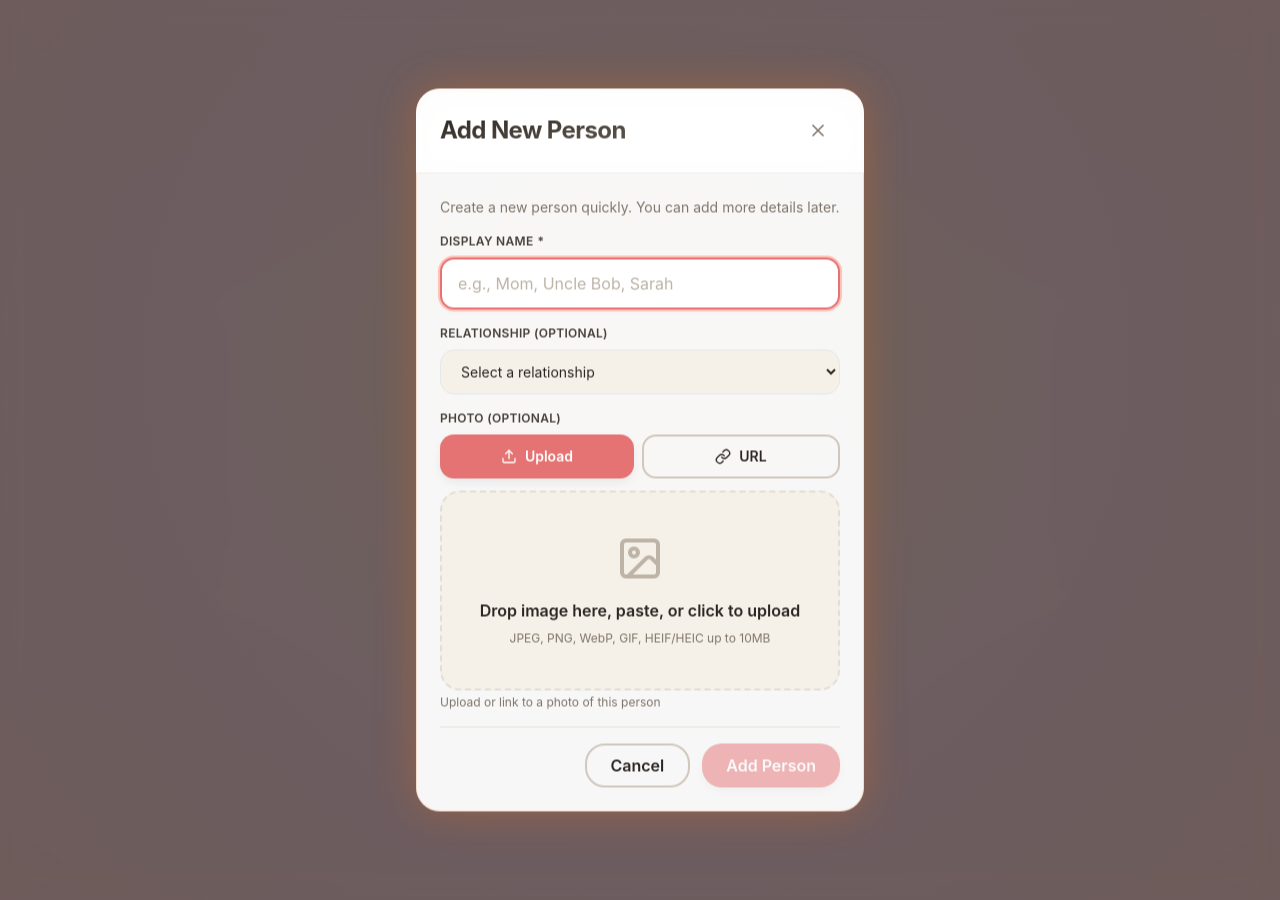
it: PersonQuickCreateModal › enables submit button when display name is provided
Type "Alice" into the field labelled "Display Name*" at {"x": 640, "y": 284}, box [440,258,840,310]
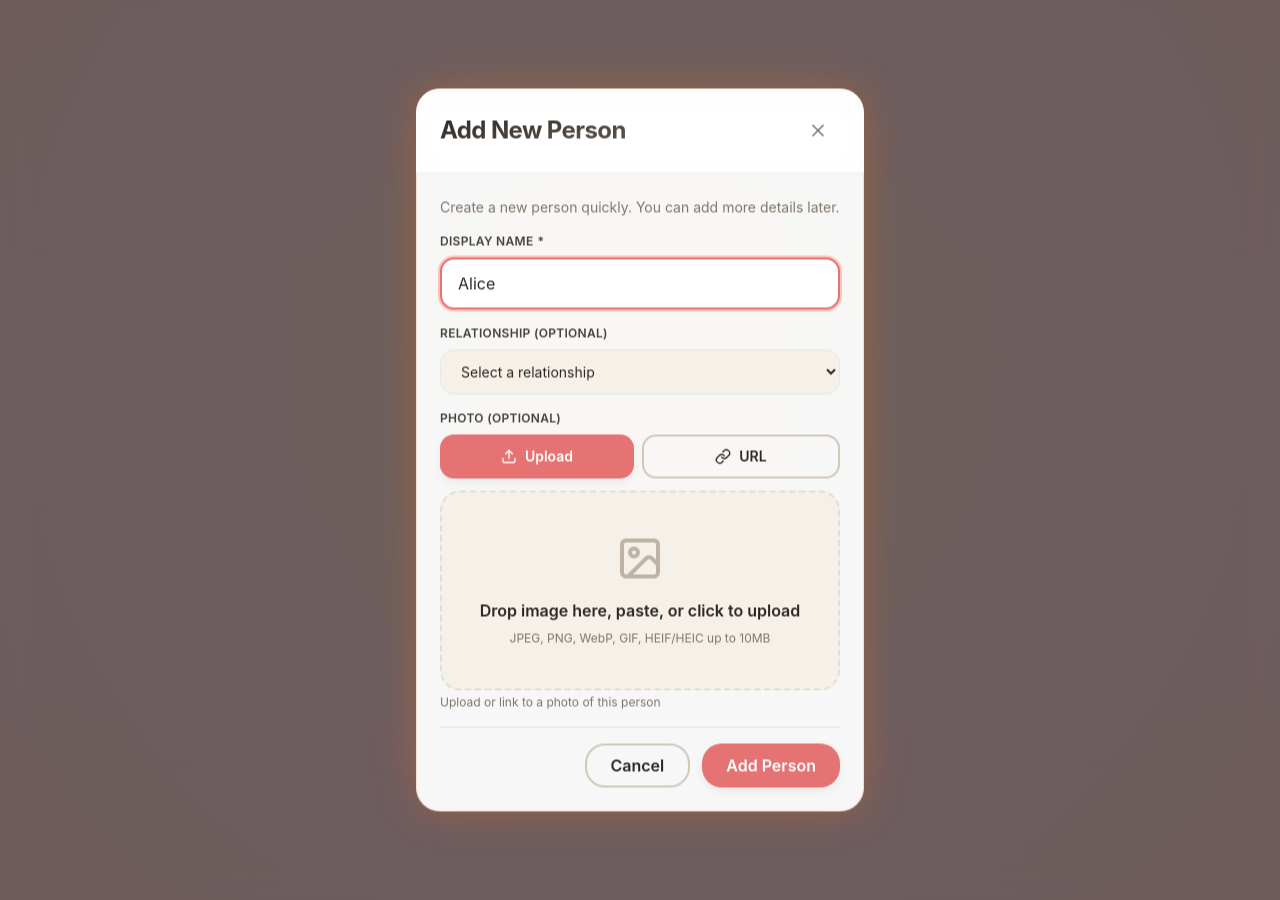
Result: the button "Add Person" is enabled at [702,744,840,788]
